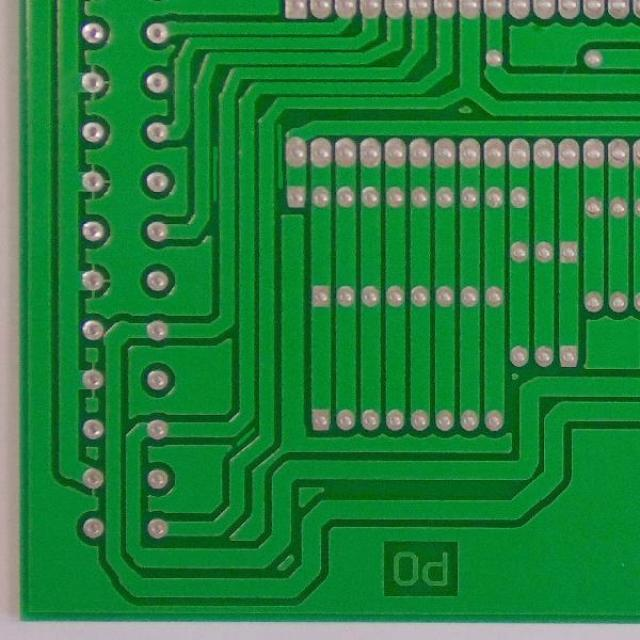spurious_copper: (271, 117, 287, 190), (208, 143, 220, 205), (231, 426, 258, 448)
